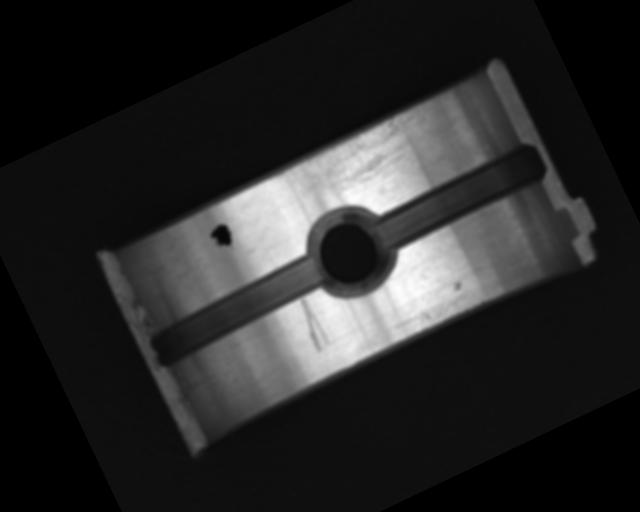blot: (204, 219, 240, 258)
bruise: (450, 280, 464, 292)
gap: (138, 249, 334, 375), (366, 139, 552, 259)
hole: (296, 196, 403, 306)
nick: (291, 294, 333, 354)
scratch: (265, 99, 445, 221)
